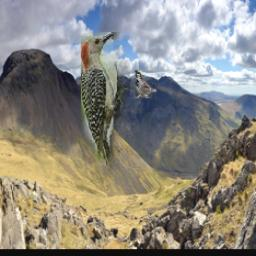Sparrow: (135, 69, 156, 98)
Woodpecker: (82, 32, 131, 174)
